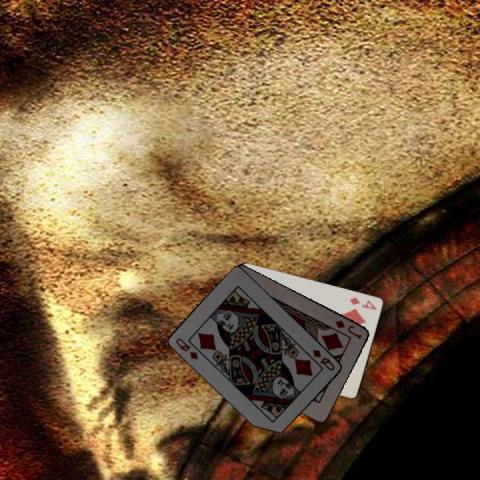4d: (347, 294, 378, 311)
Jd: (332, 317, 363, 341)
Qd: (304, 346, 337, 373), (173, 335, 200, 361)
